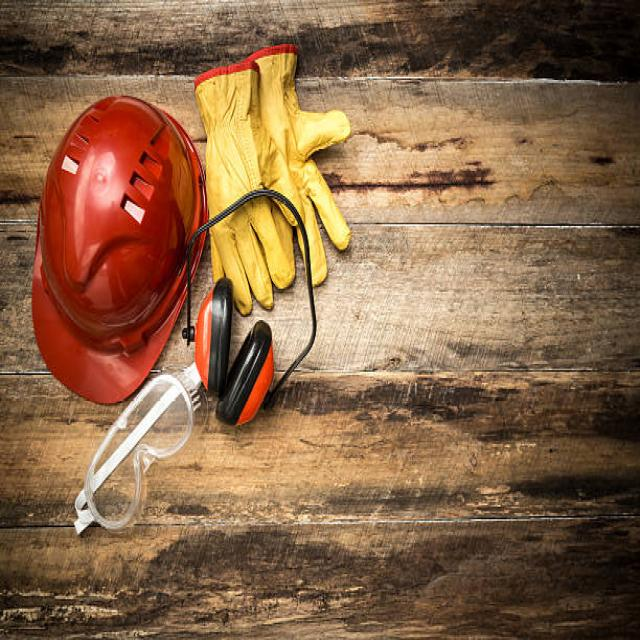Gloves: (193, 40, 359, 319)
helmet: (13, 92, 210, 411)
